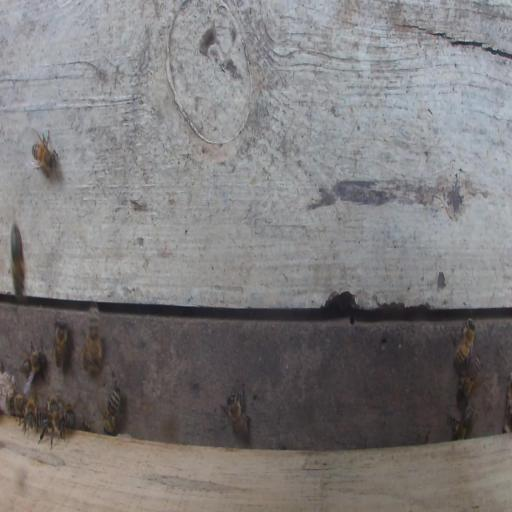nonpollenbee: (222, 389, 251, 439), (19, 340, 45, 387), (453, 317, 476, 367), (10, 223, 25, 298), (37, 411, 66, 448), (450, 402, 475, 440), (458, 356, 481, 397), (88, 304, 102, 368), (103, 386, 120, 434), (54, 320, 69, 370), (31, 142, 55, 168), (8, 392, 26, 415), (26, 396, 36, 429), (63, 404, 75, 430), (83, 334, 90, 370), (47, 396, 59, 412)
